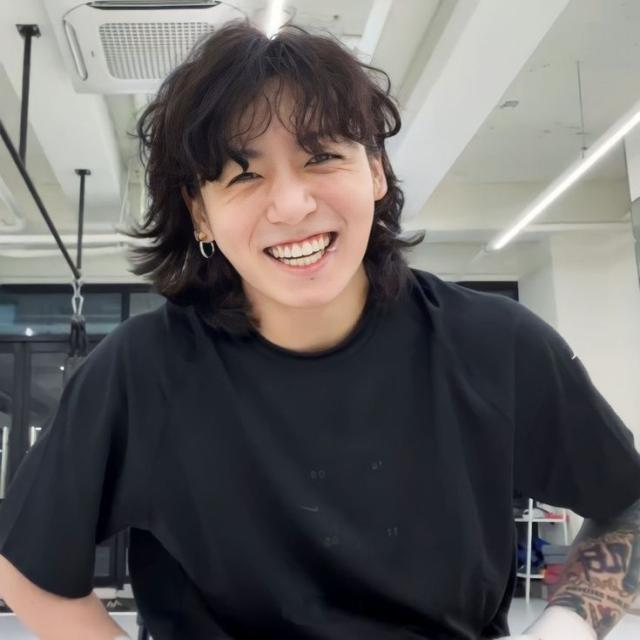sem_oculos: (160, 139, 390, 188)
